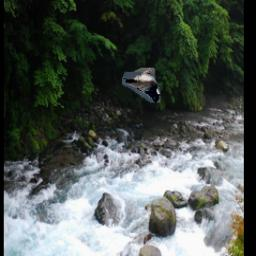Swallow: (123, 69, 161, 104)
